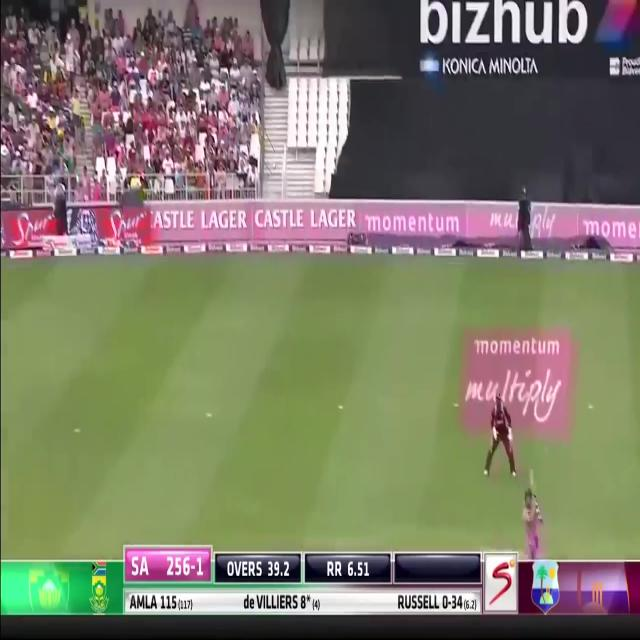Fielder: (489, 384, 516, 482)
